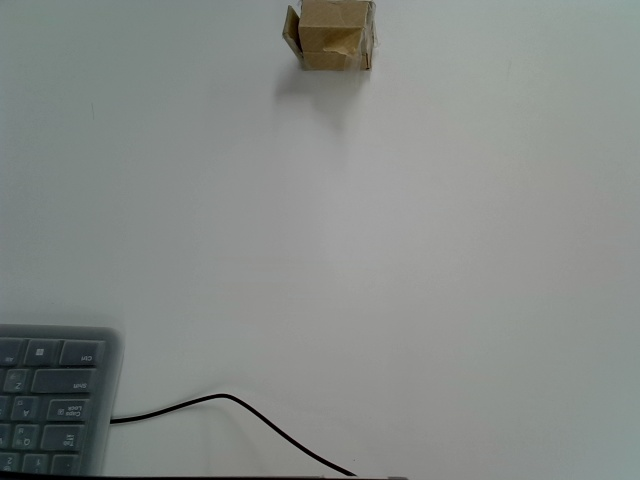defect: (282, 1, 377, 72)
